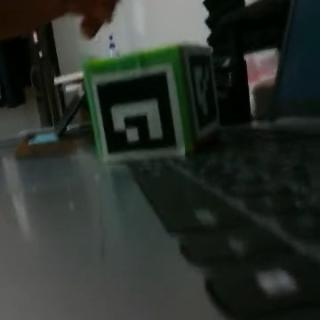armor: (92, 63, 184, 159)
robot: (84, 44, 215, 164)
